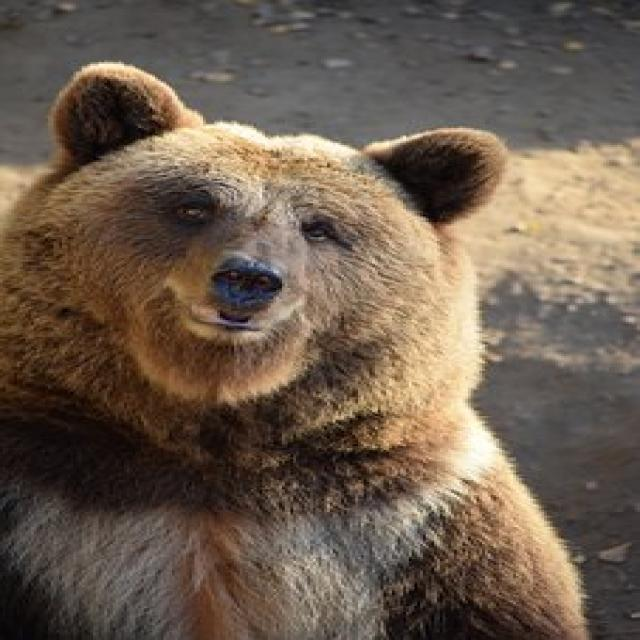Bear: (0, 62, 592, 640)
